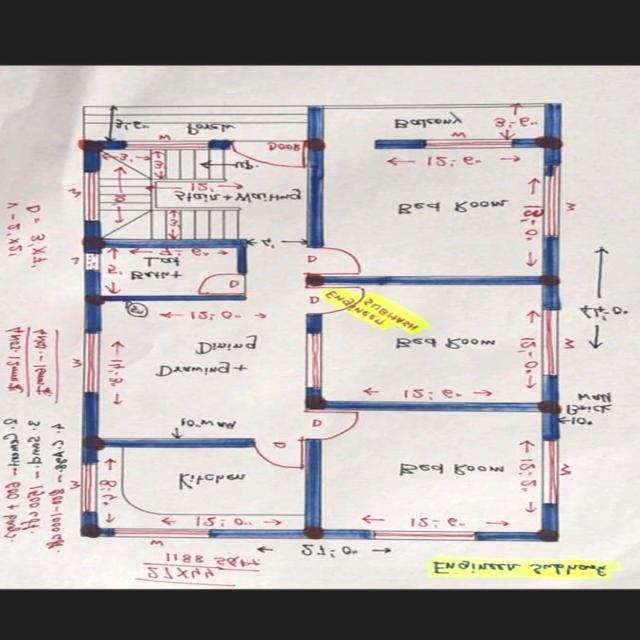column: (294, 394, 332, 416), (529, 526, 569, 546), (300, 520, 336, 542), (530, 398, 568, 418), (74, 433, 110, 453), (74, 522, 108, 542), (536, 133, 570, 153), (77, 233, 115, 250), (302, 272, 333, 292), (76, 138, 110, 155), (77, 291, 111, 306), (535, 273, 564, 289), (302, 136, 330, 152)
